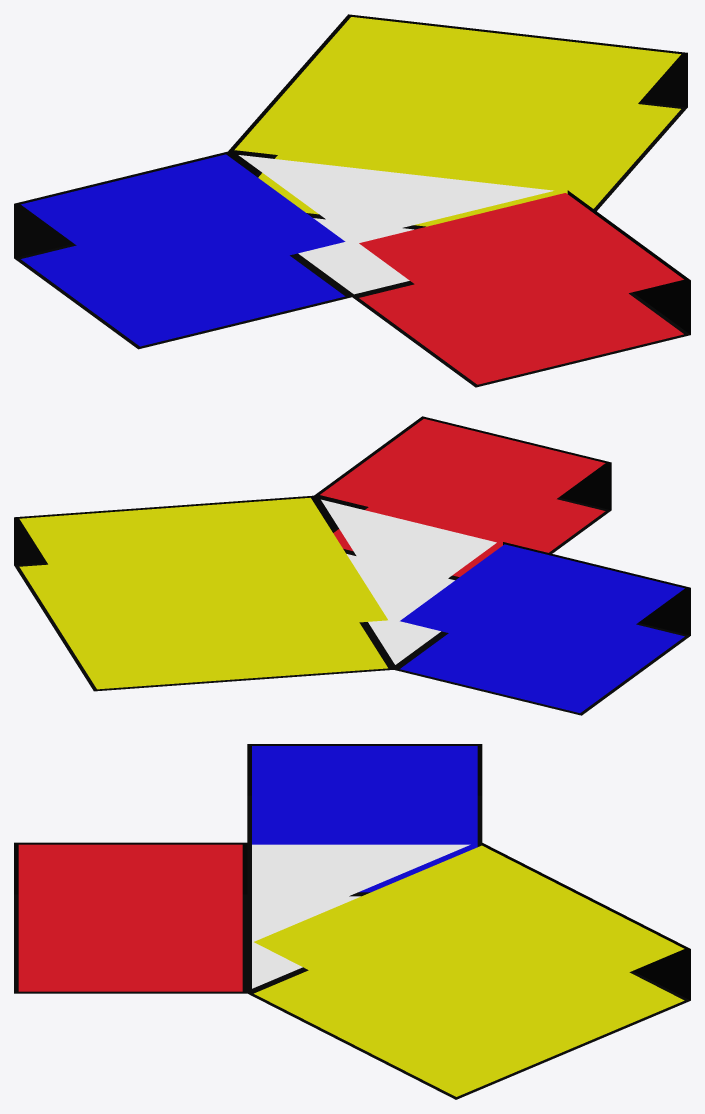
Rendered from PYTH h.glb.
3 views of the same model, one above another, from view 1: azimuth 30°, elevation 25°; view 2: azimuth 150°, elevation 25°; view 3: azimuth 270°, elevation 25° (orthographic). The views are drawn at different scales.
Visible parts, largest first — view 1: Plane; view 2: Plane; view 3: Plane.
Part boxes in pixels (box(x1,y1,x2,y2)): Plane: box(14, 14, 690, 387); Plane: box(14, 416, 690, 715); Plane: box(14, 744, 690, 1099).
Bounding box in the file's own units: 6.13 × 0.4854 × 5.76.
